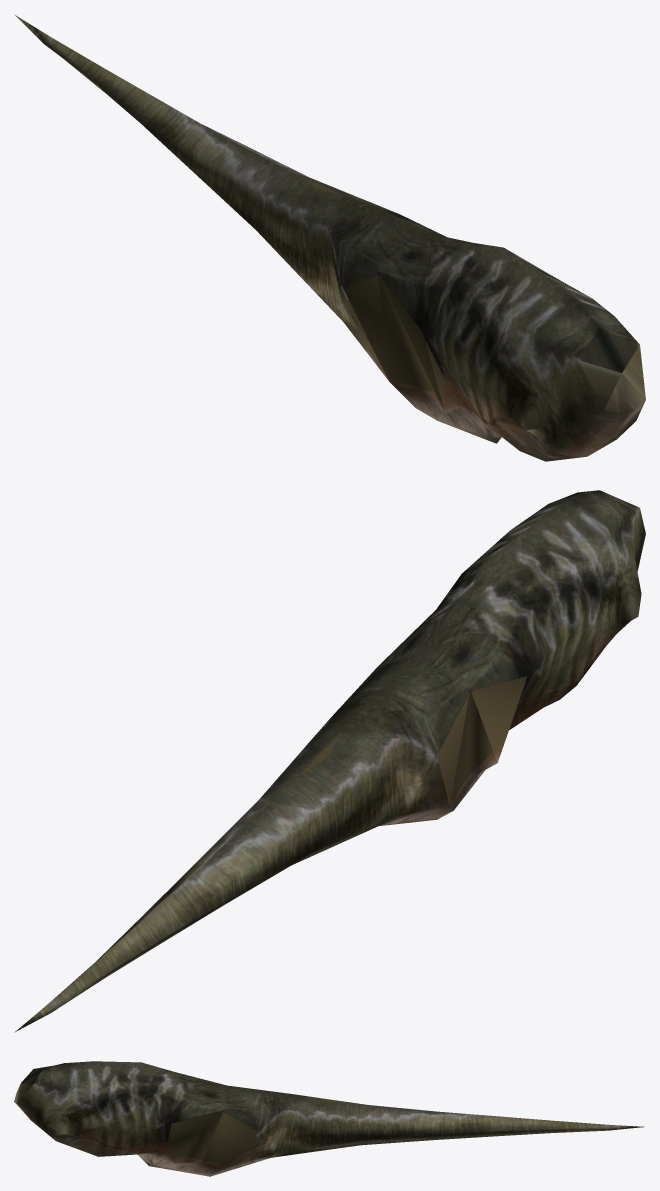
File: dino1T.obj
The picture shows the model from 3 angles, top to bottom: view 1: azimuth 30°, elevation 25°; view 2: azimuth 150°, elevation 25°; view 3: azimuth 270°, elevation 25°; orthographic projection. The views are drawn at different scales.
Visible parts, largest first — view 1: dino1; view 2: dino1; view 3: dino1.
Part boxes in pixels (x1,y1,x2,y2): dino1: (15,15,645,461); dino1: (14,490,645,1032); dino1: (14,1061,644,1176).
Bounding box in the file's own units: 4.95 × 9.19 × 45.63.
1 material, 1 textured.
